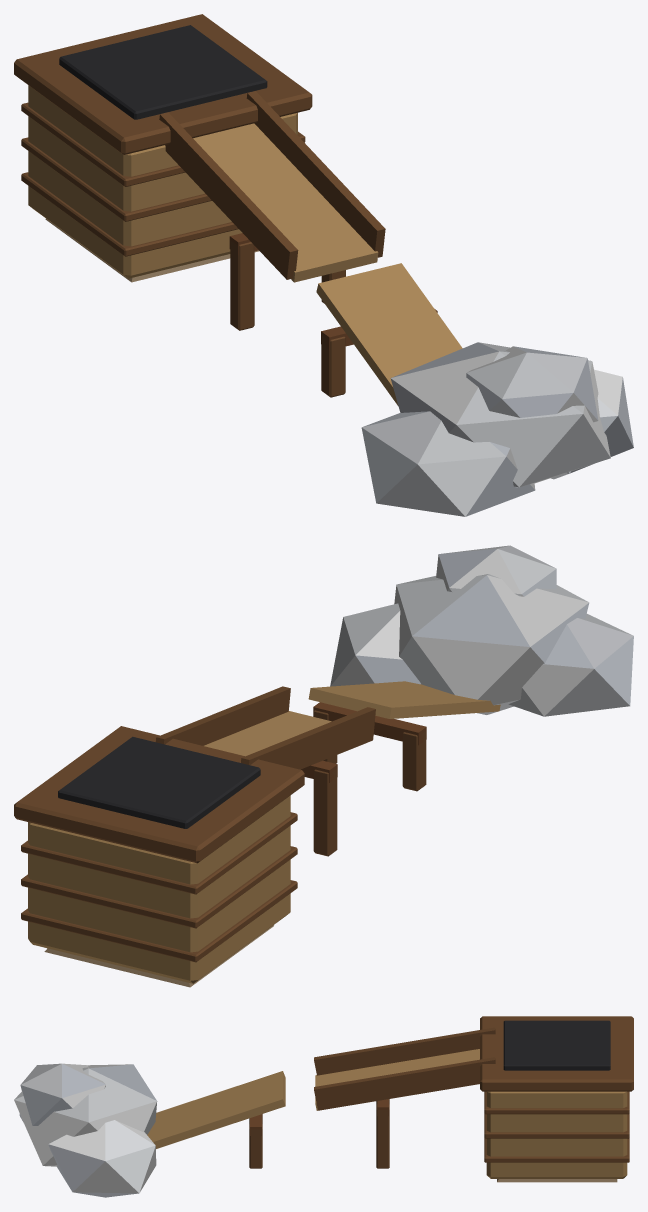
The model's file is CloudChute.glb.
The picture shows the model from 3 angles, top to bottom: view 1: azimuth 30°, elevation 25°; view 2: azimuth 150°, elevation 25°; view 3: azimuth 270°, elevation 25°; orthographic projection. The views are drawn at different scales.
Parts seen in each view (by area): view 1: Body, CloudChute; view 2: CloudChute, Body; view 3: Body, CloudChute.
Boxes of the visible parts, x1,y1,x2,y2 form: Body: [159, 91, 633, 516]; CloudChute: [14, 14, 312, 282]; CloudChute: [14, 726, 304, 987]; Body: [155, 545, 633, 856]; Body: [14, 1027, 495, 1197]; CloudChute: [480, 1016, 633, 1182].
Size of what is drawn, in the model's own units: 6.51 by 4.37 by 18.53.
